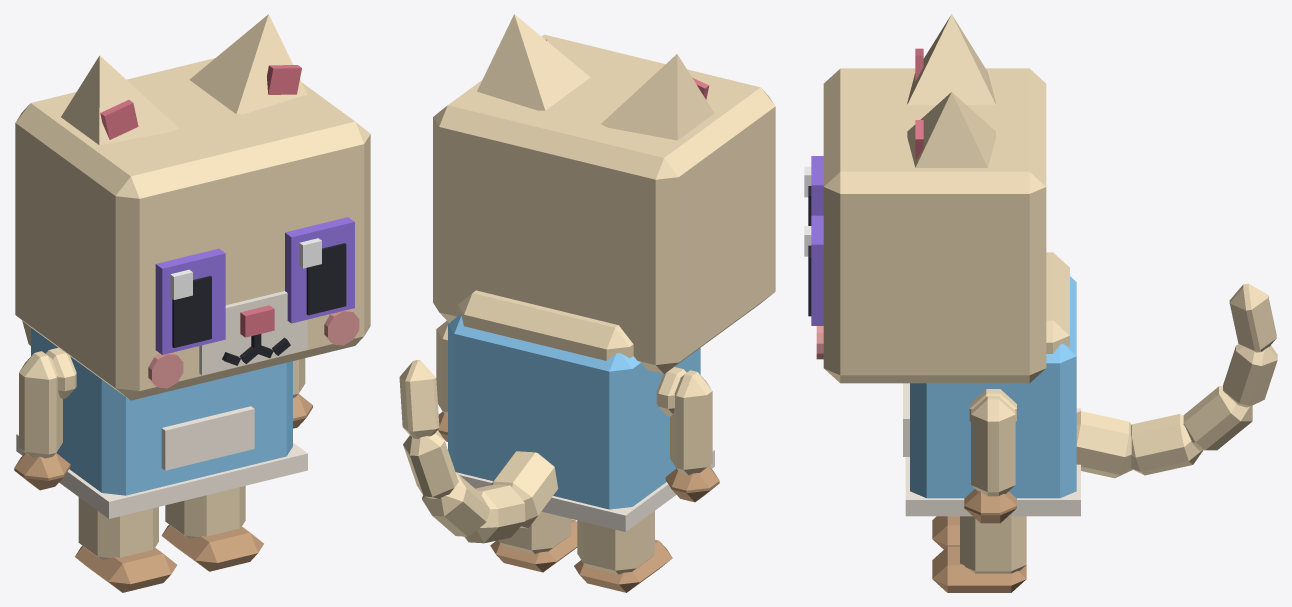
Rendered from CleanACat_NPC_Helper3.fbx.
The picture shows the model from 3 angles, left to right: view 1: azimuth 30°, elevation 25°; view 2: azimuth 150°, elevation 25°; view 3: azimuth 270°, elevation 25°; orthographic projection. The views are drawn at different scales.
Parts seen in each view (by area): view 1: CleanACat_NPC_Helper3_Head, CleanACat_NPC_Helper3_Body, CleanACat_NPC_Helper3_Eye2, CleanACat_NPC_Helper3_Eye1, CleanACat_NPC_Helper3_EarL, CleanACat_NPC_Helper3_LegB2, CleanACat_NPC_Helper3_LegB1, CleanACat_NPC_Helper3_EarR, CleanACat_NPC_Helper3_LegF2, CleanACat_NPC_Helper3_LegF1; view 2: CleanACat_NPC_Helper3_Head, CleanACat_NPC_Helper3_Body, CleanACat_NPC_Helper3_Tail, CleanACat_NPC_Helper3_EarL, CleanACat_NPC_Helper3_EarR, CleanACat_NPC_Helper3_LegB2, CleanACat_NPC_Helper3_LegF2, CleanACat_NPC_Helper3_LegB1, CleanACat_NPC_Helper3_LegF1; view 3: CleanACat_NPC_Helper3_Head, CleanACat_NPC_Helper3_Body, CleanACat_NPC_Helper3_Tail, CleanACat_NPC_Helper3_LegB1, CleanACat_NPC_Helper3_LegF1, CleanACat_NPC_Helper3_EarR, CleanACat_NPC_Helper3_EarL, CleanACat_NPC_Helper3_Eye1, CleanACat_NPC_Helper3_Eye2, CleanACat_NPC_Helper3_LegB2.
Part boxes in pixels (<box>): CleanACat_NPC_Helper3_Head: <box>15,58,370,400</box>; CleanACat_NPC_Helper3_Body: <box>16,328,307,518</box>; CleanACat_NPC_Helper3_Eye2: <box>155,248,225,354</box>; CleanACat_NPC_Helper3_Eye1: <box>285,217,354,323</box>; CleanACat_NPC_Helper3_EarL: <box>189,14,307,114</box>; CleanACat_NPC_Helper3_LegB2: <box>75,497,176,592</box>; CleanACat_NPC_Helper3_LegB1: <box>161,486,263,571</box>; CleanACat_NPC_Helper3_EarR: <box>61,55,178,145</box>; CleanACat_NPC_Helper3_LegF2: <box>14,351,70,490</box>; CleanACat_NPC_Helper3_LegF1: <box>293,358,312,428</box>; CleanACat_NPC_Helper3_Head: <box>433,34,775,373</box>; CleanACat_NPC_Helper3_Body: <box>448,290,714,531</box>; CleanACat_NPC_Helper3_Tail: <box>399,360,558,543</box>; CleanACat_NPC_Helper3_EarL: <box>477,14,590,110</box>; CleanACat_NPC_Helper3_EarR: <box>601,54,714,140</box>; CleanACat_NPC_Helper3_LegB2: <box>574,511,672,592</box>; CleanACat_NPC_Helper3_LegF2: <box>665,370,719,502</box>; CleanACat_NPC_Helper3_LegB1: <box>490,511,577,572</box>; CleanACat_NPC_Helper3_LegF1: <box>436,321,449,441</box>; CleanACat_NPC_Helper3_Head: <box>816,68,1046,383</box>; CleanACat_NPC_Helper3_Body: <box>903,252,1080,516</box>; CleanACat_NPC_Helper3_Tail: <box>1076,283,1277,478</box>; CleanACat_NPC_Helper3_LegB1: <box>932,516,1026,592</box>; CleanACat_NPC_Helper3_LegF1: <box>964,396,1016,523</box>; CleanACat_NPC_Helper3_EarR: <box>907,14,995,105</box>; CleanACat_NPC_Helper3_EarL: <box>907,92,995,167</box>; CleanACat_NPC_Helper3_Eye1: <box>804,215,823,325</box>; CleanACat_NPC_Helper3_Eye2: <box>804,156,823,225</box>; CleanACat_NPC_Helper3_LegB2: <box>932,516,959,549</box>.
Bounding box in the file's own units: 1.07 × 1.93 × 1.62.
1 material, 1 textured.
